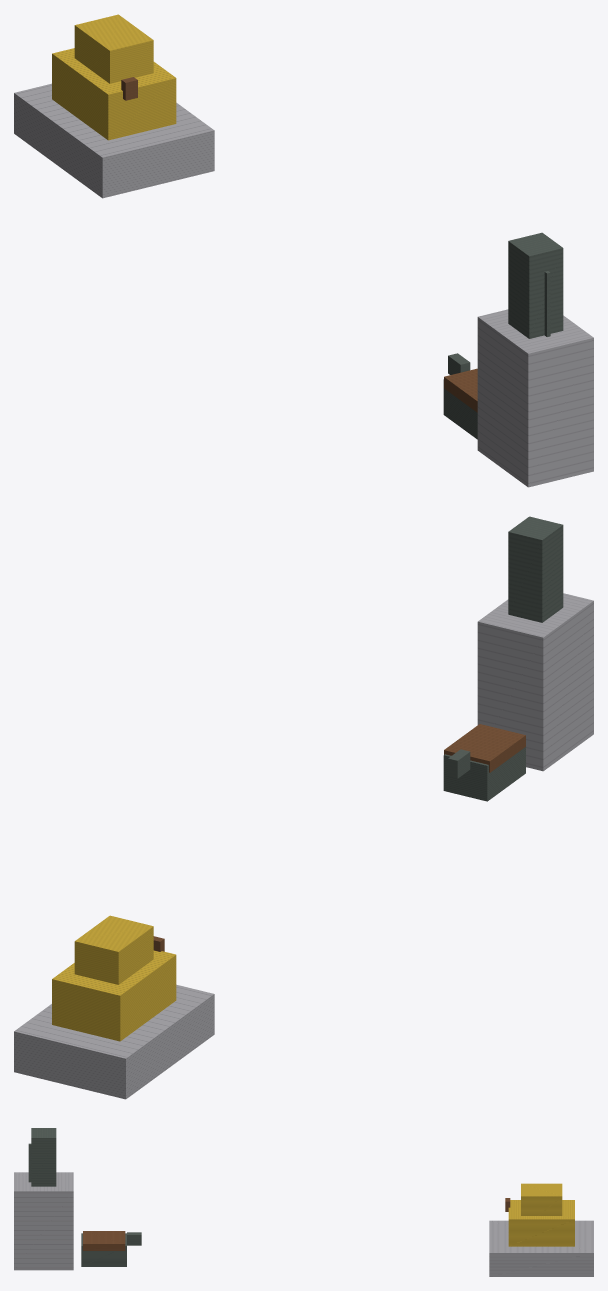
3 views of the same model, one above another, from view 1: azimuth 30°, elevation 25°; view 2: azimuth 150°, elevation 25°; view 3: azimuth 270°, elevation 25° (orthographic). The views are drawn at different scales.
Parts seen in each view (by area): view 1: node_component_11110_04_03072_001_01_sejong_statue, node_component_11110_04_03072_001_02_sunshin_statue, node_component_11110_04_03072_001_03_geobukseon_sculpture; view 2: node_component_11110_04_03072_001_01_sejong_statue, node_component_11110_04_03072_001_02_sunshin_statue, node_component_11110_04_03072_001_03_geobukseon_sculpture; view 3: node_component_11110_04_03072_001_01_sejong_statue, node_component_11110_04_03072_001_02_sunshin_statue, node_component_11110_04_03072_001_03_geobukseon_sculpture.
Part boxes in pixels (x1,y1,x2,y2): node_component_11110_04_03072_001_01_sejong_statue: (14,14,214,198); node_component_11110_04_03072_001_02_sunshin_statue: (477,232,593,487); node_component_11110_04_03072_001_03_geobukseon_sculpture: (443,353,477,439); node_component_11110_04_03072_001_01_sejong_statue: (14,915,214,1099); node_component_11110_04_03072_001_02_sunshin_statue: (477,516,593,771); node_component_11110_04_03072_001_03_geobukseon_sculpture: (443,724,525,801); node_component_11110_04_03072_001_01_sejong_statue: (489,1183,593,1276); node_component_11110_04_03072_001_02_sunshin_statue: (14,1128,73,1270); node_component_11110_04_03072_001_03_geobukseon_sculpture: (81,1231,141,1266).
Size of the model in its own units: 9.2 by 17 by 69.9.
4 materials, 4 textured.
